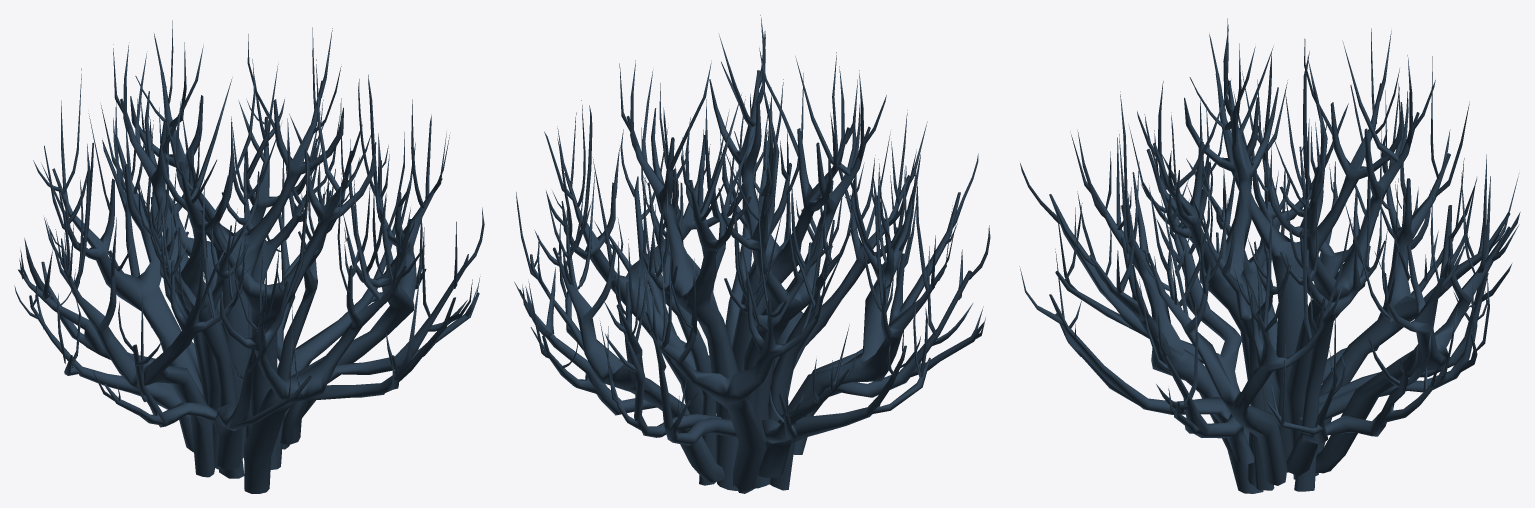
The model's file is Bush_red_2_High.fbx.
3 renders of one model, left to right at view 1: azimuth 30°, elevation 25°; view 2: azimuth 150°, elevation 25°; view 3: azimuth 270°, elevation 25°, orthographic. The views are drawn at different scales.
Parts seen in each view (by area): view 1: polySurface545; view 2: polySurface545; view 3: polySurface545.
Boxes of the visible parts, <box> form: polySurface545: <box>14,20,484,493</box>; polySurface545: <box>514,15,990,493</box>; polySurface545: <box>1019,18,1520,493</box>.
Size of the model in its own units: 13.24 by 13.64 by 13.97.
